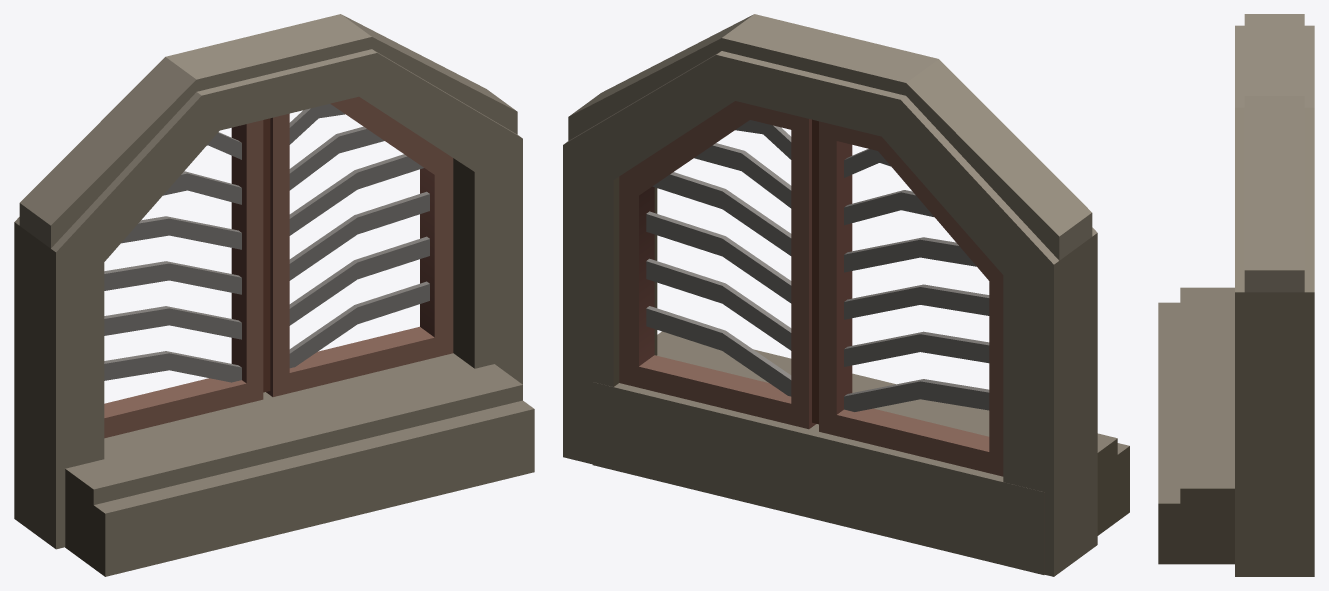
Rendered from SF_Bld_Elven_Castle_Gate_01.fbx.
The picture shows the model from 3 angles, left to right: view 1: azimuth 30°, elevation 25°; view 2: azimuth 150°, elevation 25°; view 3: azimuth 270°, elevation 25°; orthographic projection. The views are drawn at different scales.
Visible parts, largest first — view 1: SF_Bld_Elven_Castle_Gate_01, SF_Bld_Elven_Castle_GateR, SF_Bld_Elven_Castle_GateL; view 2: SF_Bld_Elven_Castle_Gate_01, SF_Bld_Elven_Castle_GateR, SF_Bld_Elven_Castle_GateL; view 3: SF_Bld_Elven_Castle_Gate_01.
Part boxes in pixels (x1=…): SF_Bld_Elven_Castle_Gate_01: x1=14, y1=14, x2=534, y2=576; SF_Bld_Elven_Castle_GateR: x1=265, y1=96, x2=453, y2=396; SF_Bld_Elven_Castle_GateL: x1=104, y1=119, x2=265, y2=438; SF_Bld_Elven_Castle_Gate_01: x1=563, y1=14, x2=1129, y2=576; SF_Bld_Elven_Castle_GateR: x1=619, y1=101, x2=816, y2=429; SF_Bld_Elven_Castle_GateL: x1=816, y1=121, x2=1003, y2=476; SF_Bld_Elven_Castle_Gate_01: x1=1158, y1=14, x2=1314, y2=576.
Bounding box in the file's own units: 16.31 × 14.39 × 4.94.
